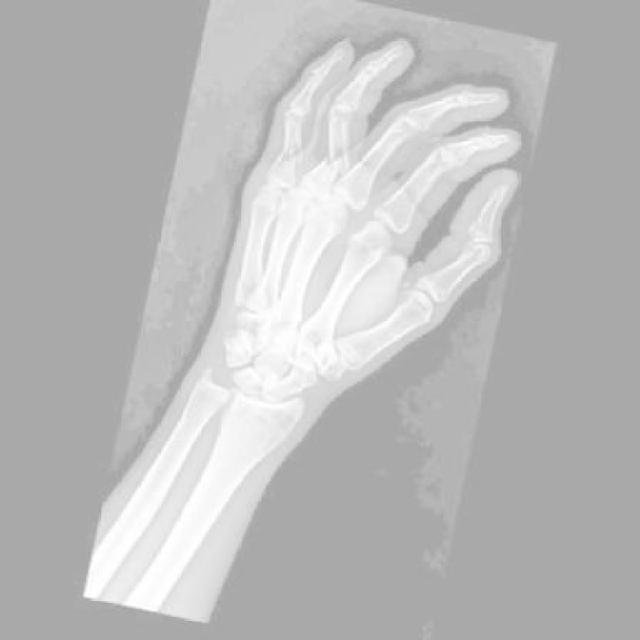Fracture: (314, 139, 357, 184), (271, 131, 310, 174)
